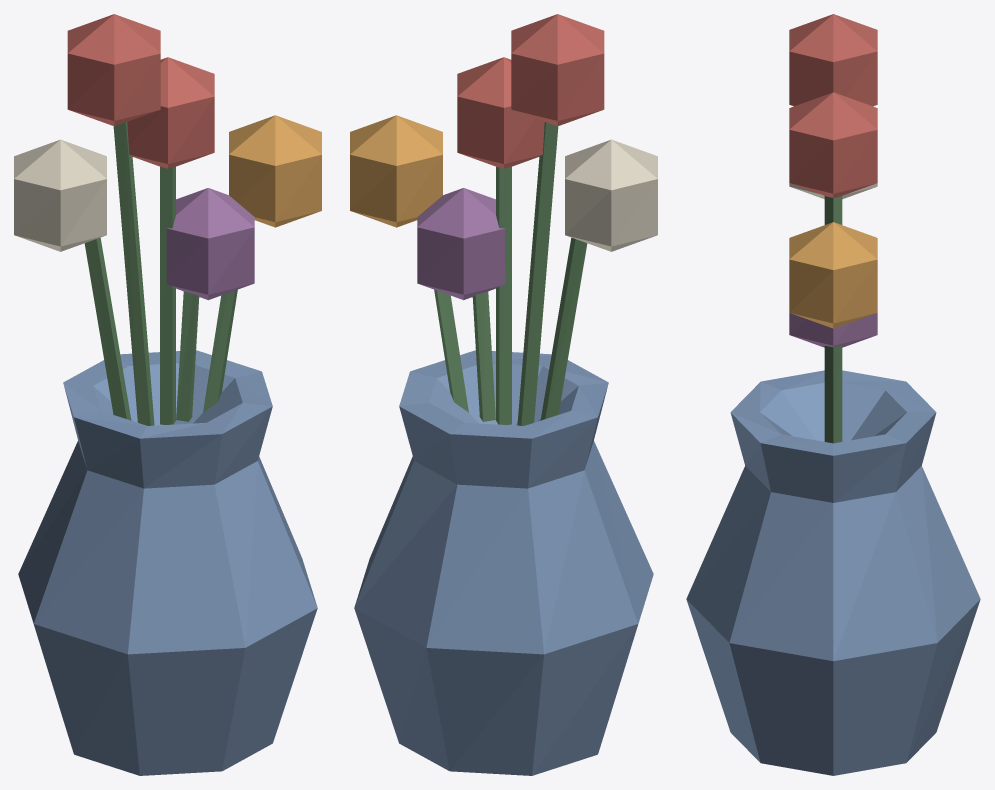
Rendered from vase_flowers.glb.
3 views of the same model, side by side, from view 1: azimuth 30°, elevation 25°; view 2: azimuth 150°, elevation 25°; view 3: azimuth 270°, elevation 25° (orthographic). The views are drawn at different scales.
Visible parts, largest first — view 1: vase_flowers; view 2: vase_flowers; view 3: vase_flowers.
Part boxes in pixels (box(x1,y1,x2,y2)): vase_flowers: box(14, 14, 321, 775); vase_flowers: box(350, 14, 657, 775); vase_flowers: box(686, 14, 980, 775).
Bounding box in the file's own units: 0.2293 × 0.52 × 0.2.
